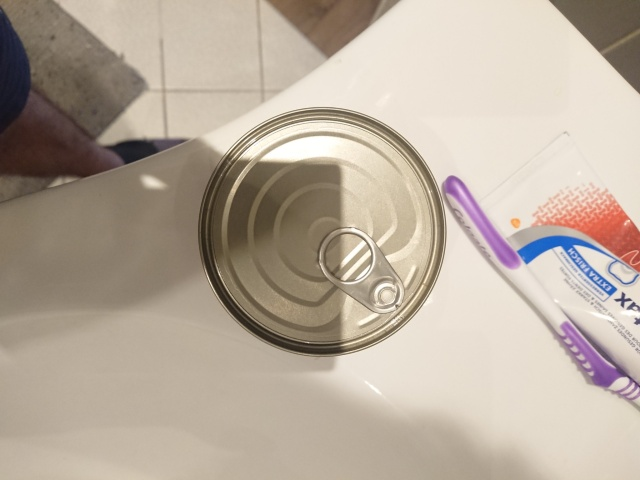Giana Tuna Salad Mexico 185g: (195, 104, 450, 362)
